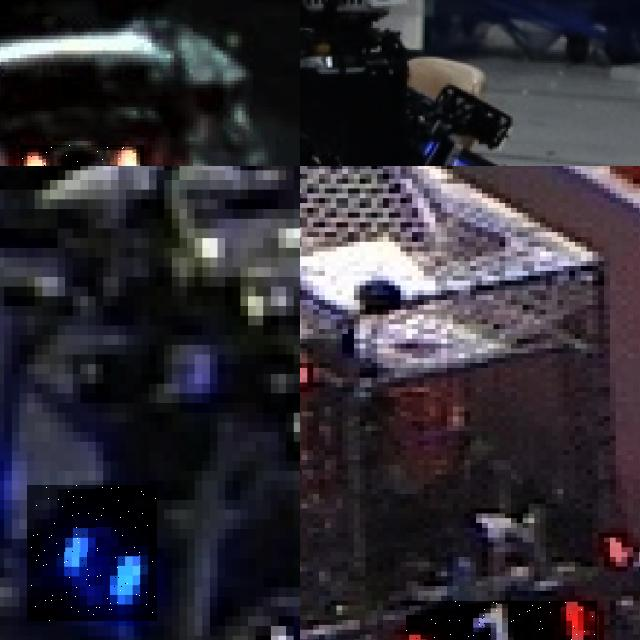B2: (27, 486, 157, 622)
R1: (406, 600, 598, 640)
Rs: (20, 145, 144, 166)
